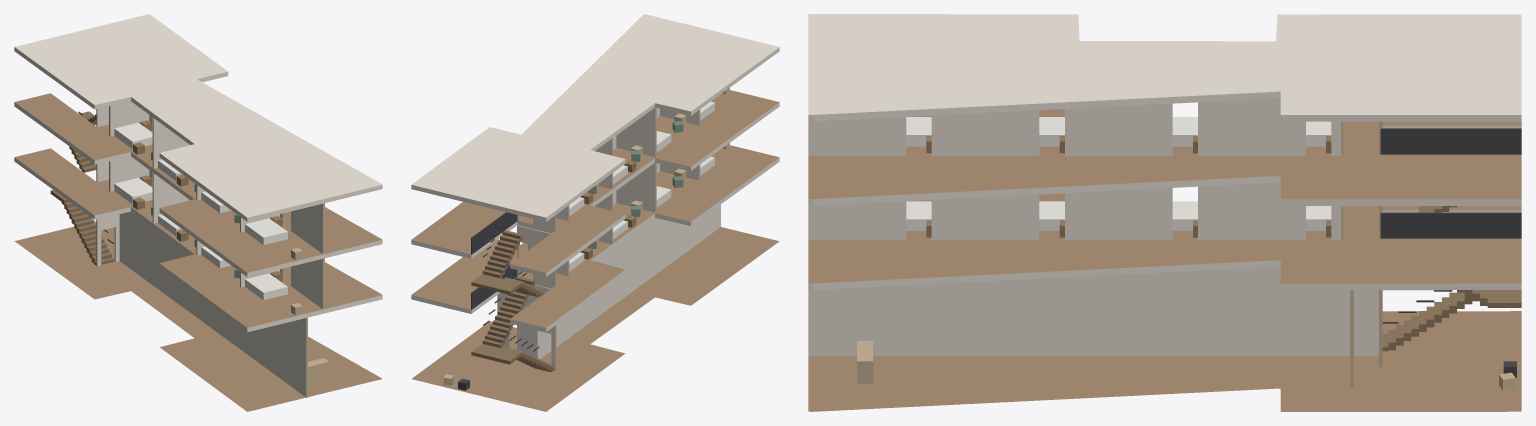
File: interior.glb
3 renders of one model, left to right at view 1: azimuth 30°, elevation 25°; view 2: azimuth 150°, elevation 25°; view 3: azimuth 270°, elevation 25°, orthographic. The views are drawn at different scales.
Parts seen in each view (by area): view 1: slabs, partitions, coarse-s2, coarse-s1, stair, coarse-s0; view 2: slabs, partitions, stair, coarse-s2, coarse-s1; view 3: slabs, partitions, stair, coarse-s2, coarse-s1, coarse-s0.
Part boxes in pixels (<box>): slabs: <box>14,14,382,411</box>; partitions: <box>96,101,324,397</box>; coarse-s2: <box>114,120,302,260</box>; coarse-s1: <box>114,175,302,315</box>; stair: <box>50,111,114,265</box>; coarse-s0: <box>308,358,329,381</box>; slabs: <box>411,14,779,411</box>; partitions: <box>497,107,720,369</box>; stair: <box>471,212,555,372</box>; coarse-s2: <box>569,88,729,216</box>; coarse-s1: <box>569,143,729,271</box>; slabs: <box>808,14,1521,411</box>; partitions: <box>808,98,1382,388</box>; stair: <box>1380,128,1521,351</box>; coarse-s2: <box>906,117,1331,153</box>; coarse-s1: <box>906,201,1331,237</box>; coarse-s0: <box>857,341,1516,390</box>.
Bounding box in the file's own units: 8.46 × 11.61 × 25.23.
